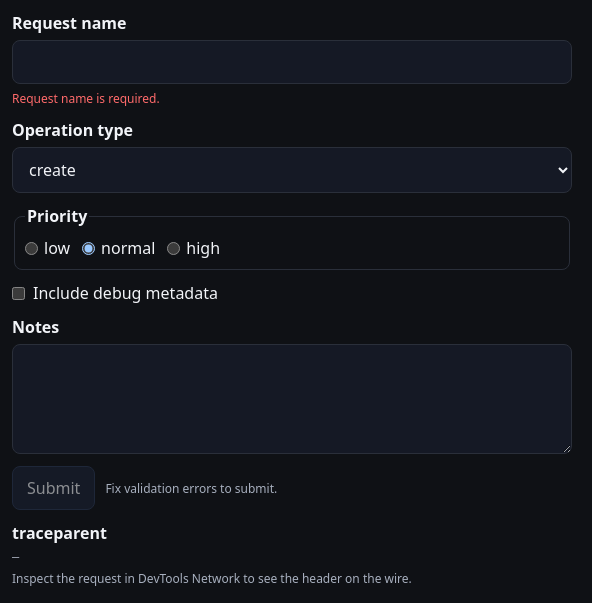
RequestForm › disables submit until request name is provided
The width and height of the screenshot is (592, 603).
Expected: the button "Submit" is disabled, x1=12 y1=466 x2=95 y2=510
Step 1. Type "My request" into the field labelled "Request name" → (292, 62), box x1=12 y1=40 x2=572 y2=84
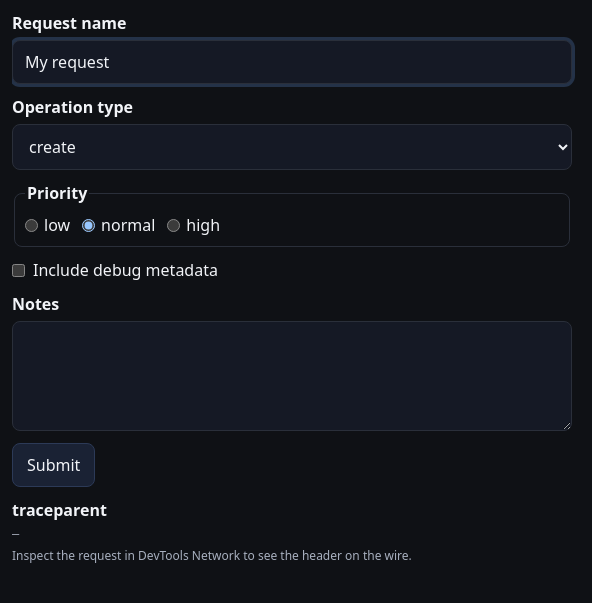
Expected: the button "Submit" is enabled, x1=12 y1=443 x2=95 y2=487
